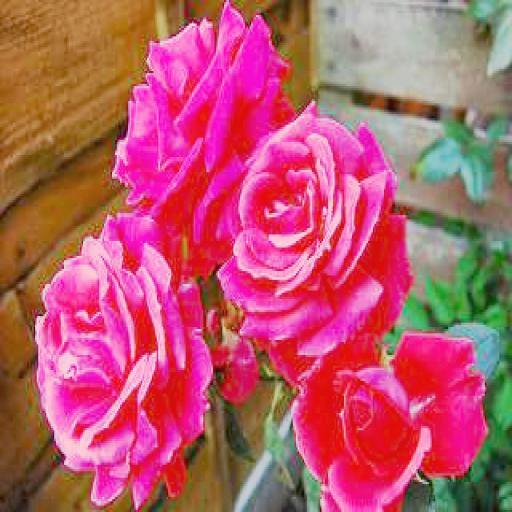rose: (216, 99, 406, 379), (38, 215, 218, 508), (116, 9, 294, 256), (294, 335, 481, 512)
